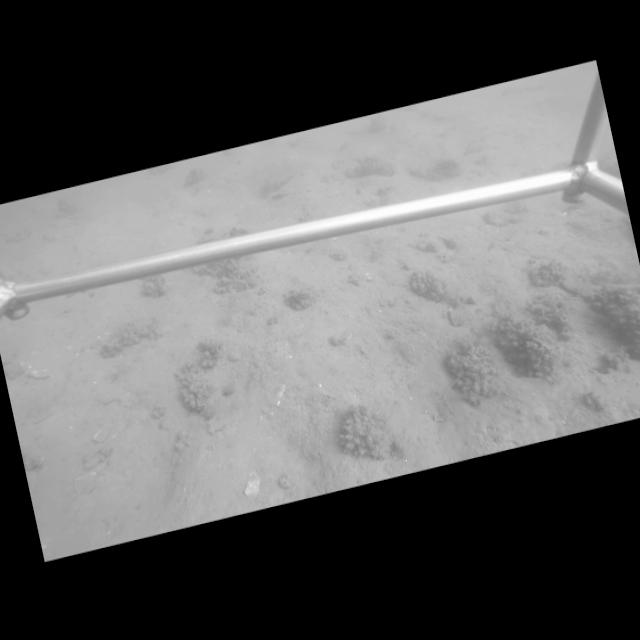Oyster-Indeterminate: (445, 307, 461, 327)
